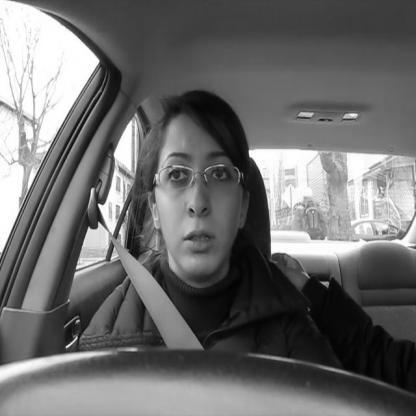seatbelt: (78, 65, 278, 416)
